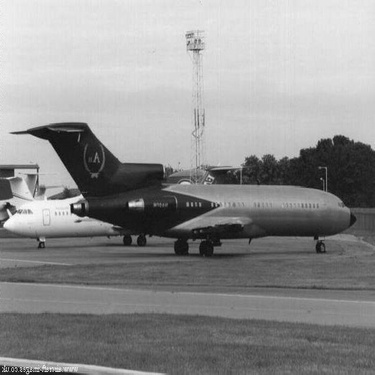airplane: (1, 110, 361, 272), (1, 150, 156, 248)
